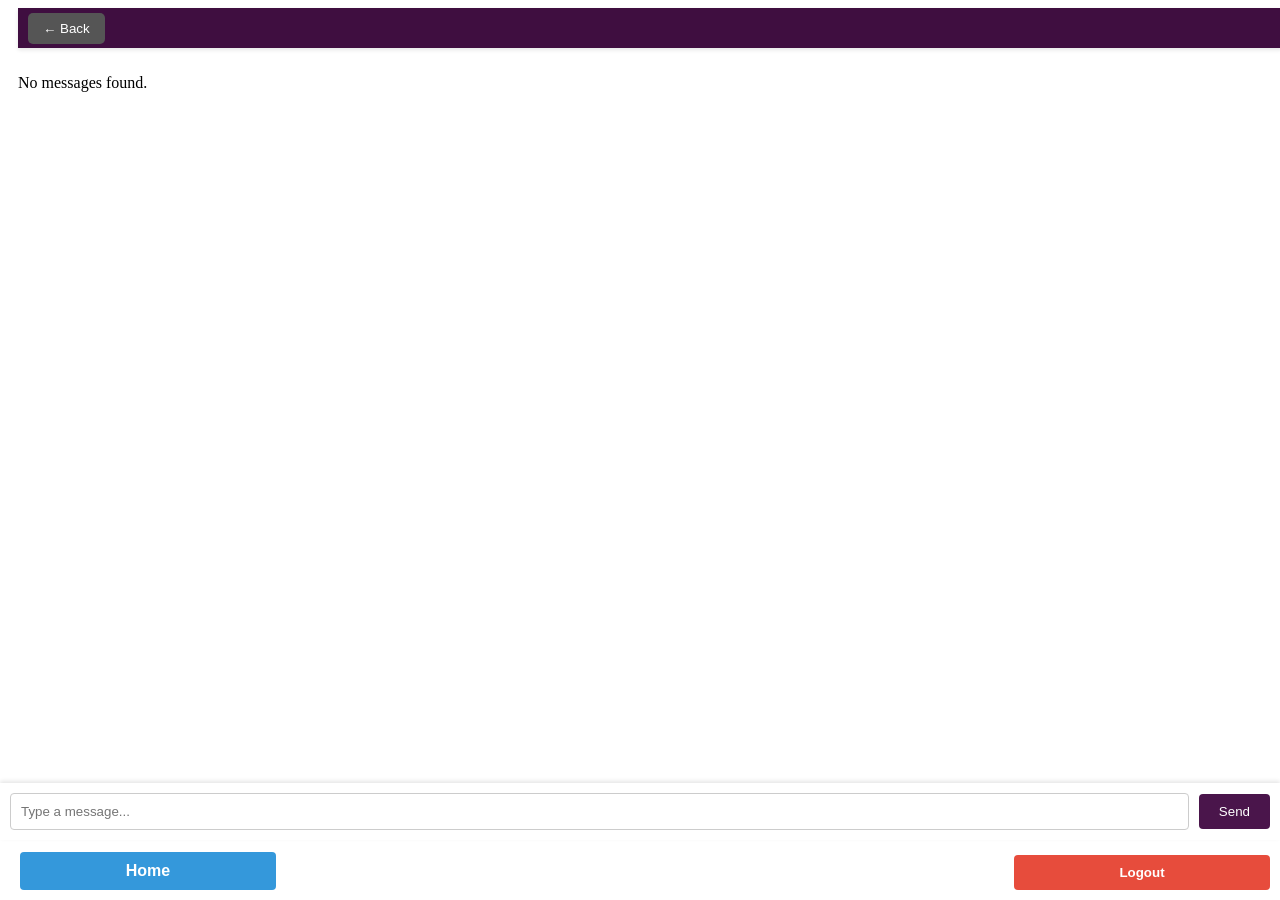
Scenario: handles sending messages
Type "monkey inky pinky ponkey" into the field with placeholder "Type a message...". click: (599, 812)
box: [10,793,1189,830]
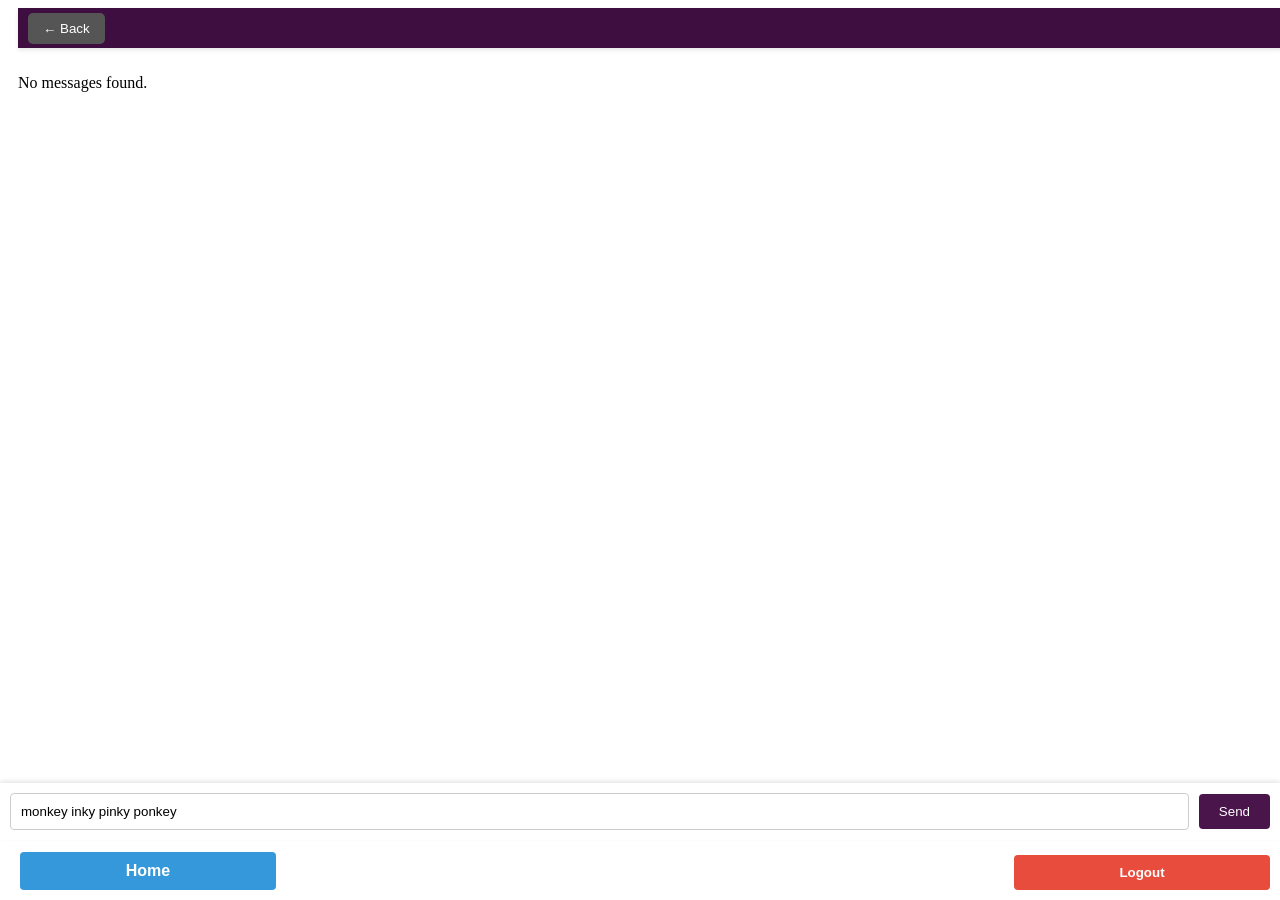
Click the button "Send". click: (1234, 812)
box: [1199,794,1270,829]
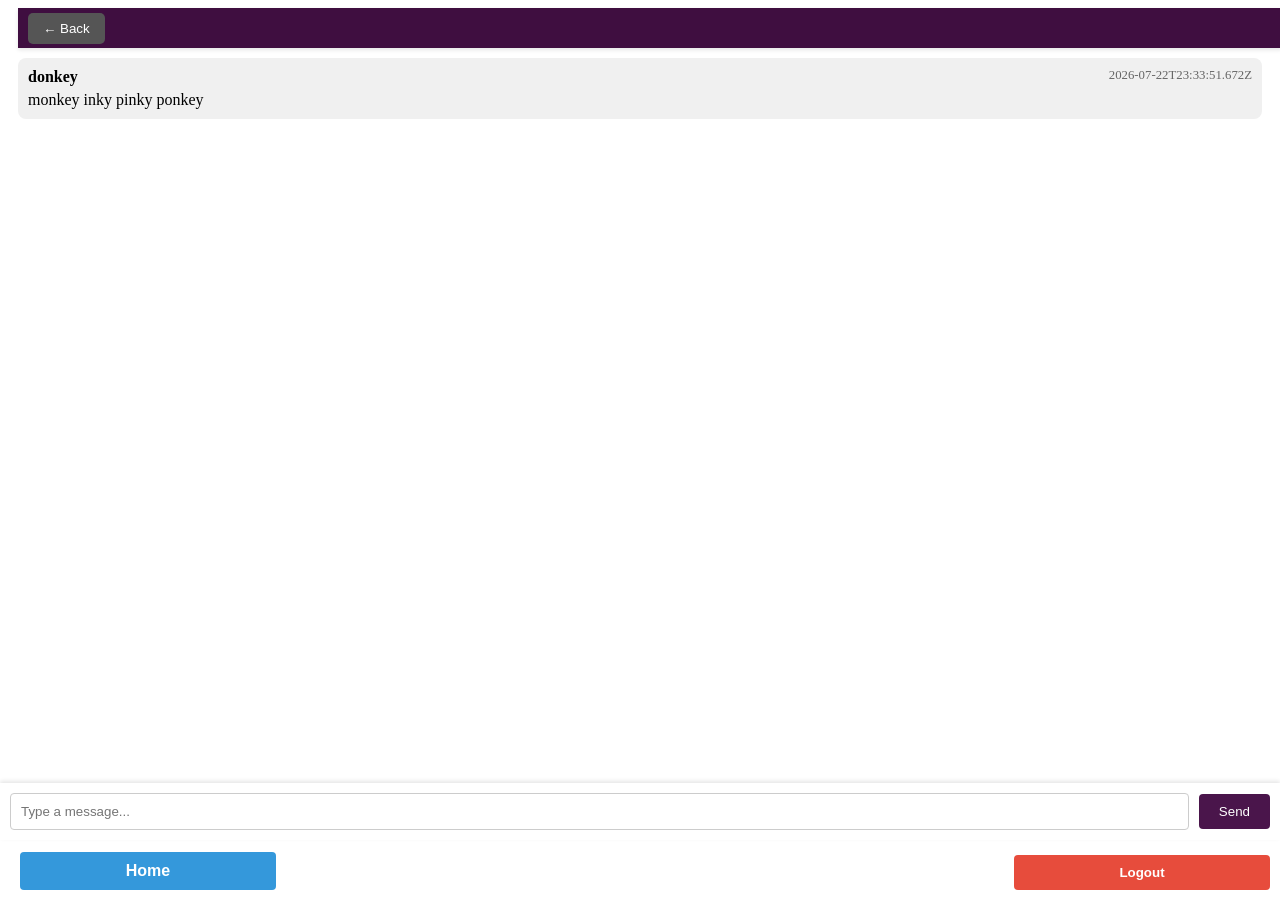
Check: the text "monkey inky pinky ponkey" is shown, box [28,91,204,108]
